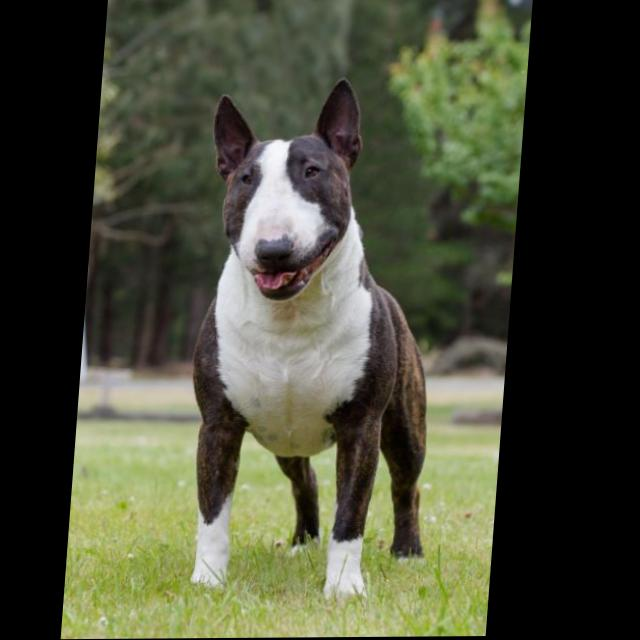bullterrier: (183, 77, 461, 605)
